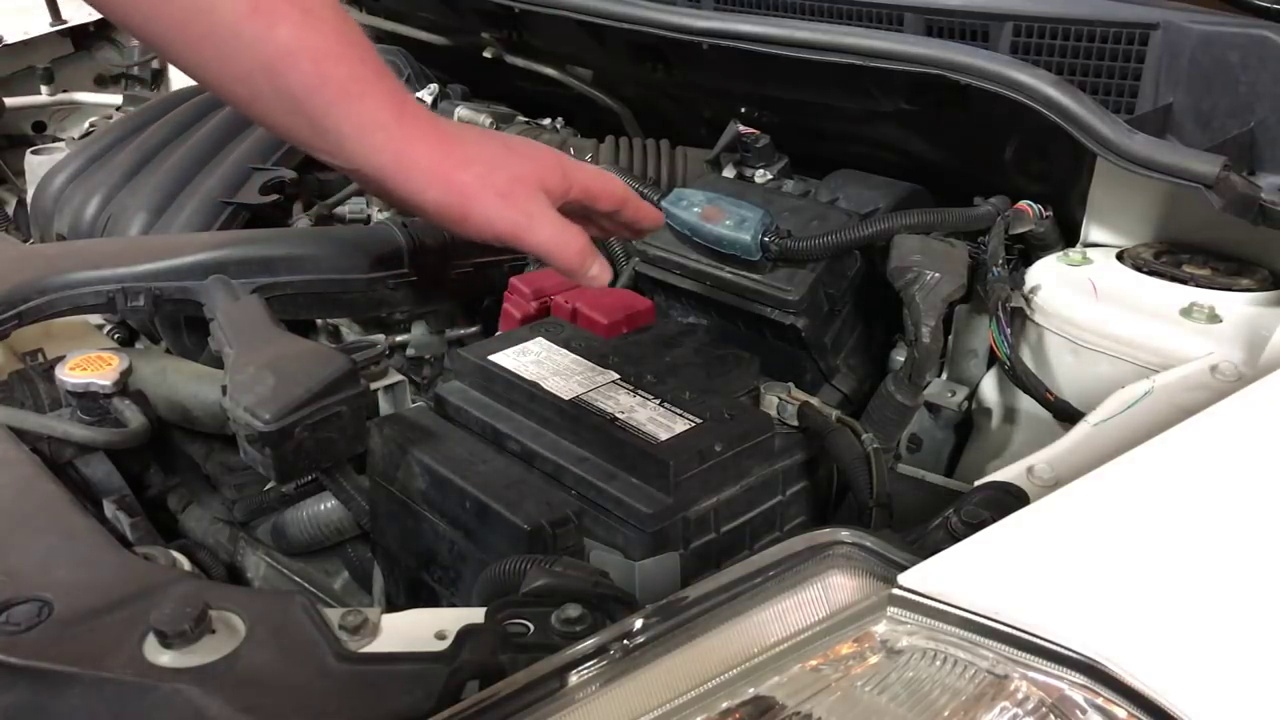battery: (468, 285, 850, 495)
neg_connected: (748, 364, 833, 449)
pos_connected: (473, 227, 666, 344)
pos_touched: (481, 160, 681, 349)
